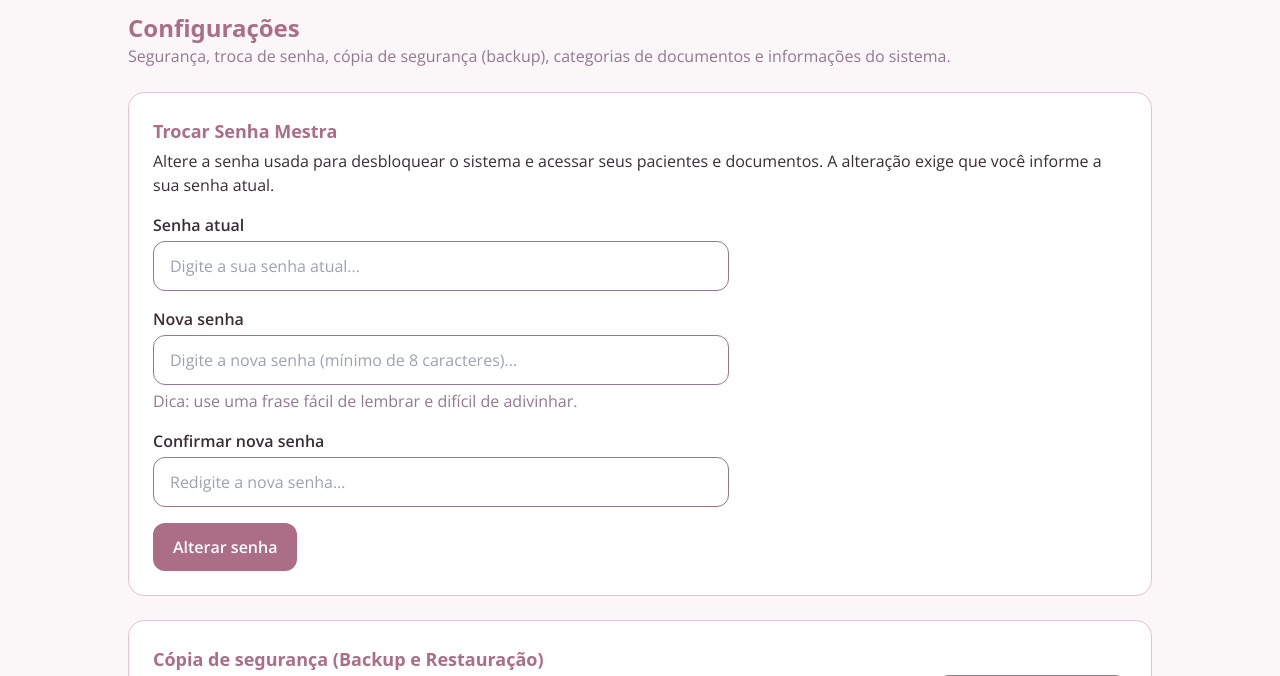
Test: Tela T10 — Configurações: Mensagem de aniversário (F5-T3 — RN32) › exibe erro amigável ao tentar trocar senha com a senha atual incorreta (F8-T1 — RN07, RN08)
The width and height of the screenshot is (1280, 676).
In the password field with test id "campo-senha-atual": (441, 266) [153,241,729,291], type "senhaErrada"
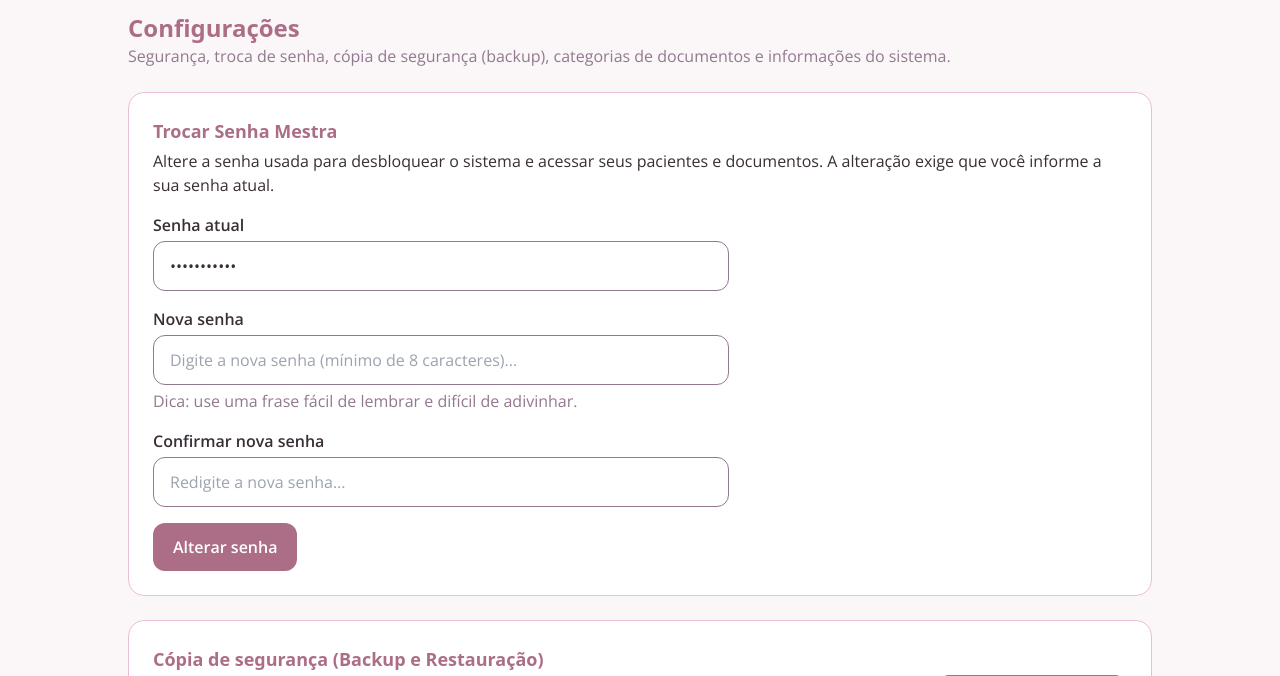
In the password field with test id "campo-nova-senha": (441, 360) [153,335,729,385], type "novaSenha123"
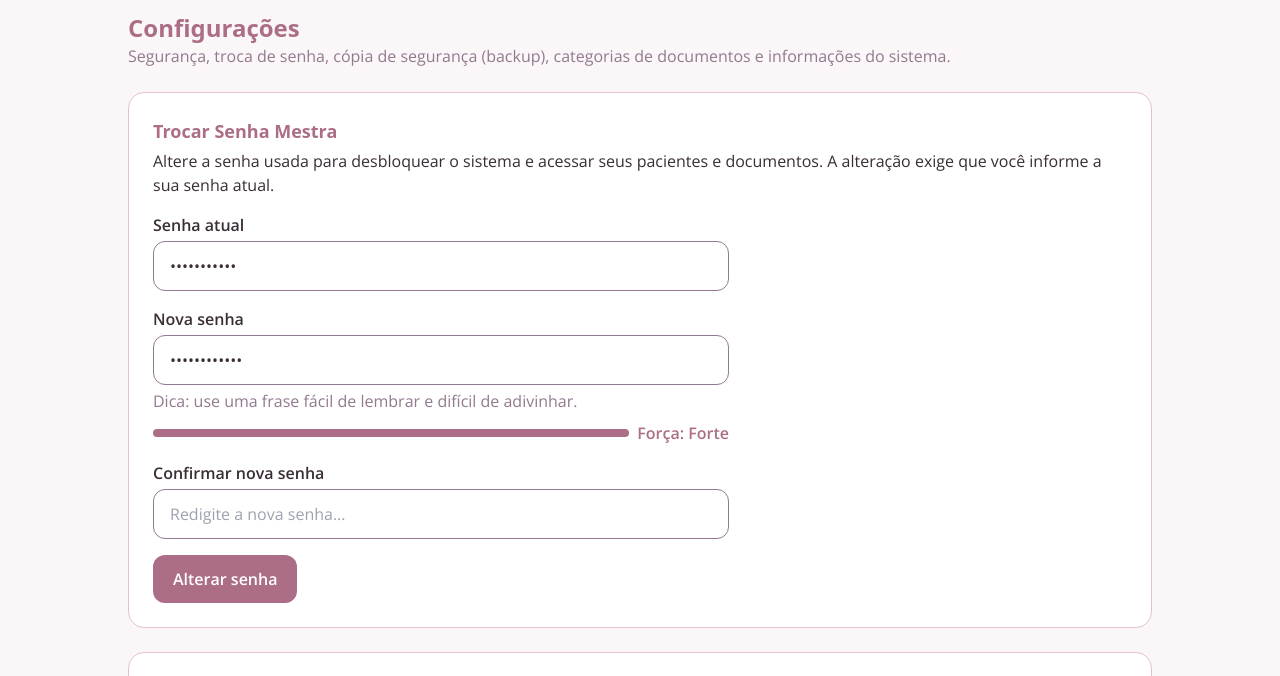
In the password field with test id "campo-confirmar-nova-senha": (441, 514) [153,489,729,539], type "novaSenha123"
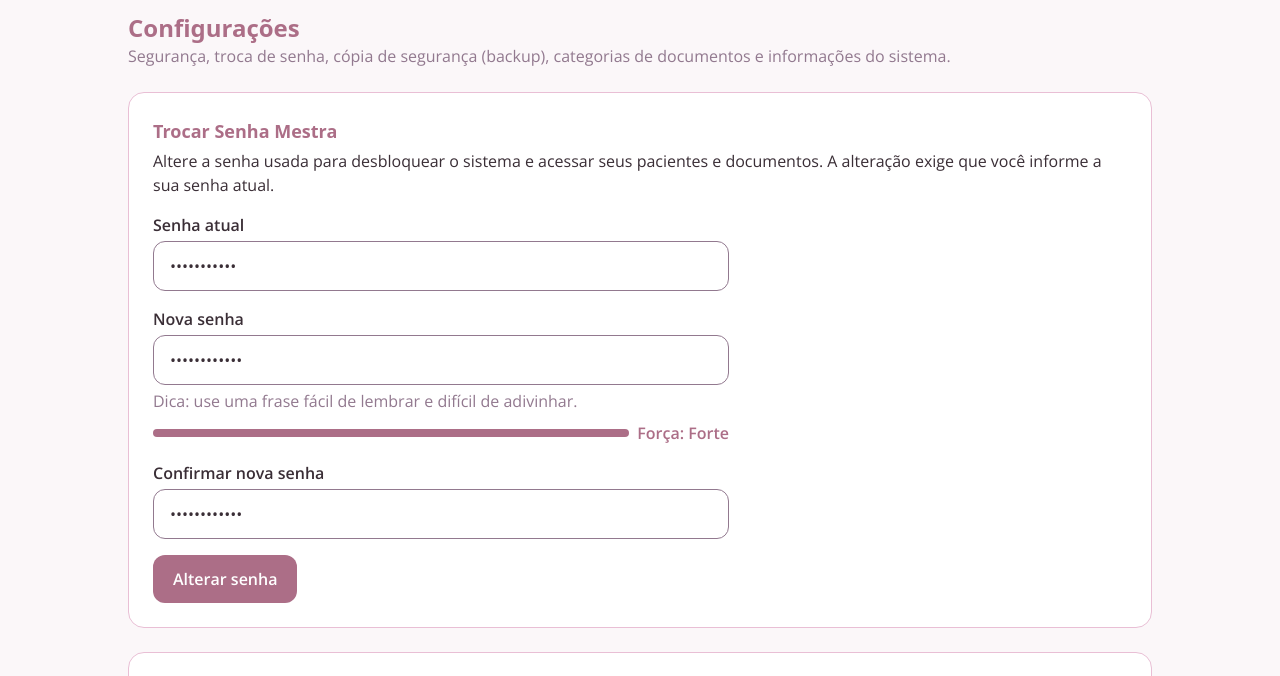
Click the button with test id "botao-salvar-nova-senha": click(225, 579) [153,555,298,603]
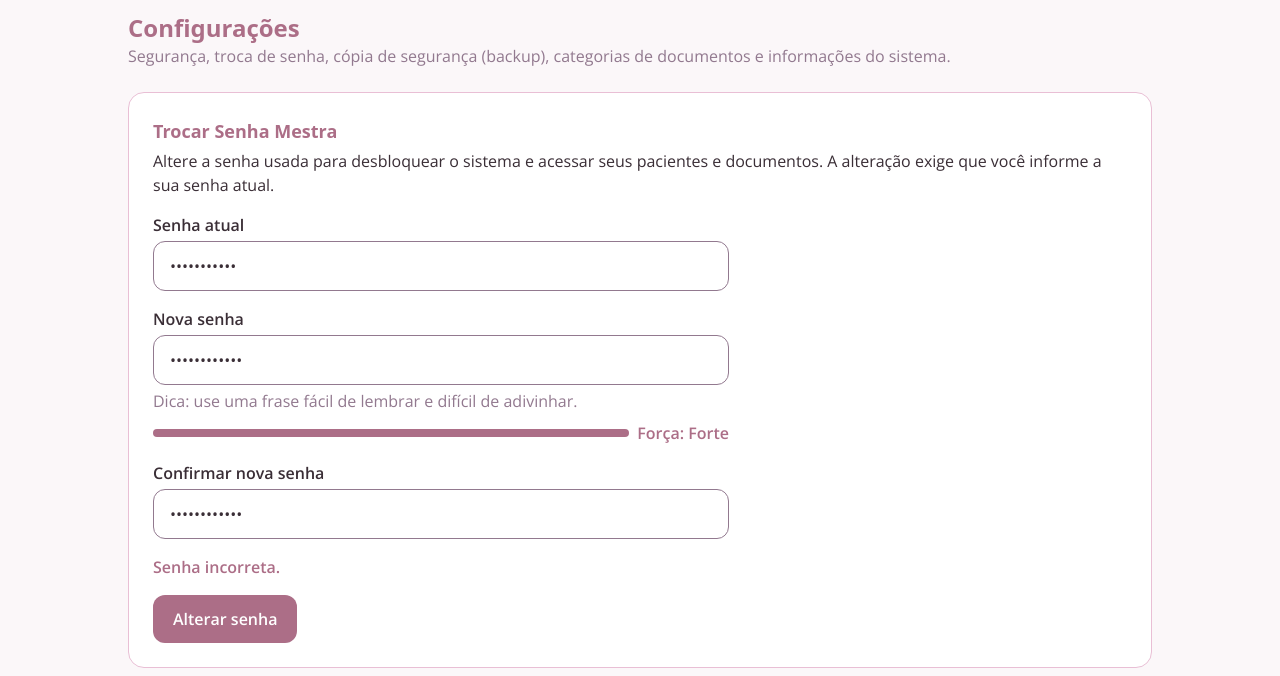
Now the text "Senha incorreta." is shown, box [153,556,280,578]
